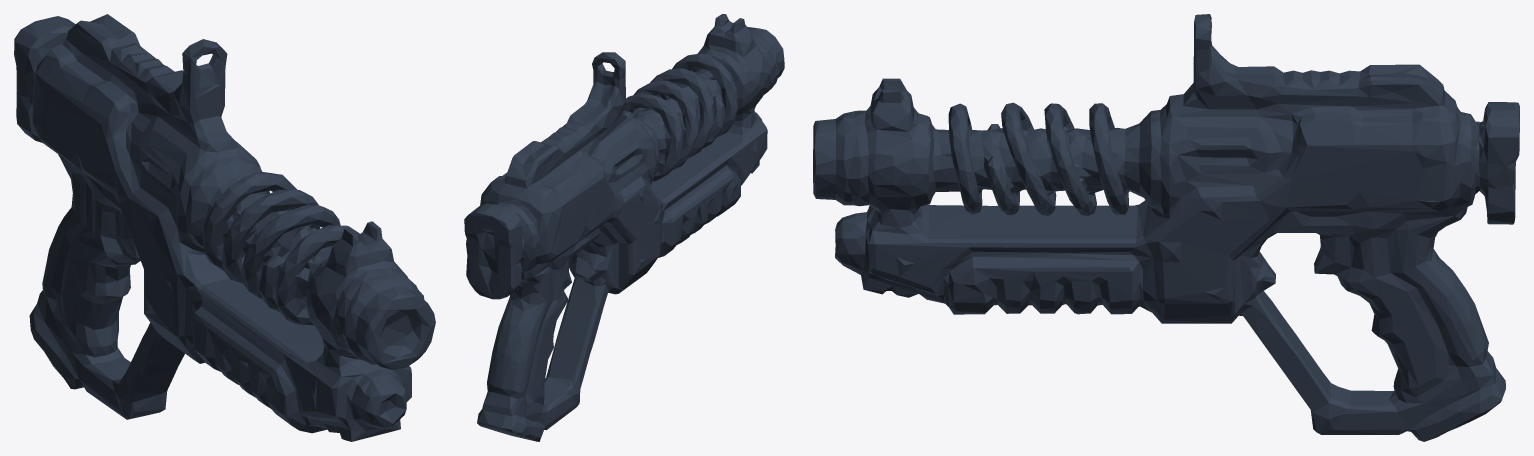
Rendered from tempest_clean.glb.
3 renders of one model, left to right at view 1: azimuth 30°, elevation 25°; view 2: azimuth 150°, elevation 25°; view 3: azimuth 270°, elevation 25°, orthographic. The views are drawn at different scales.
Visible parts, largest first — view 1: Mesh_0; view 2: Mesh_0; view 3: Mesh_0.
Boxes of the visible parts, <box> form: Mesh_0: <box>14,14,435,441</box>; Mesh_0: <box>464,14,784,441</box>; Mesh_0: <box>813,14,1519,441</box>.
Bounding box in the file's own units: 0.1435 × 0.5869 × 0.9.
